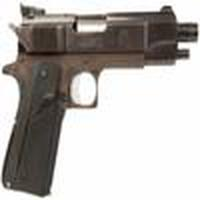gun: (2, 16, 196, 194)
